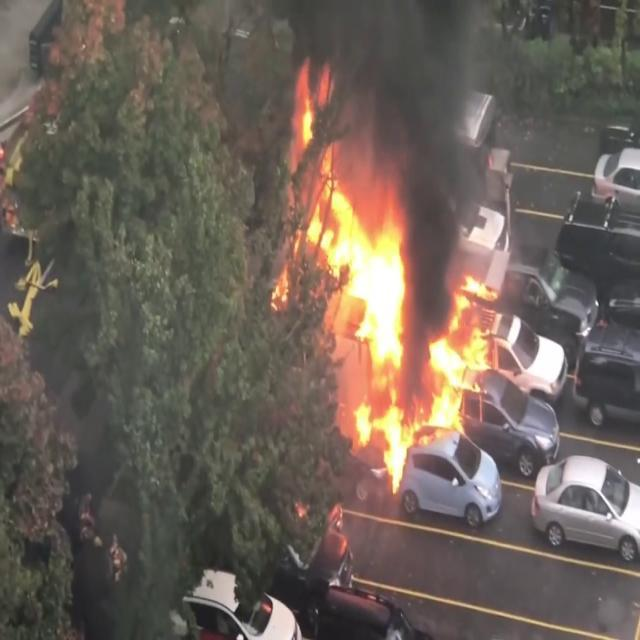Fire: (266, 96, 502, 476)
